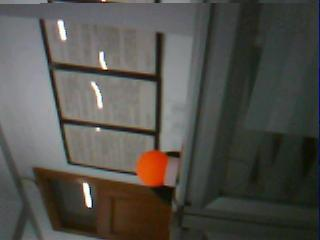oball: (135, 150, 167, 186)
